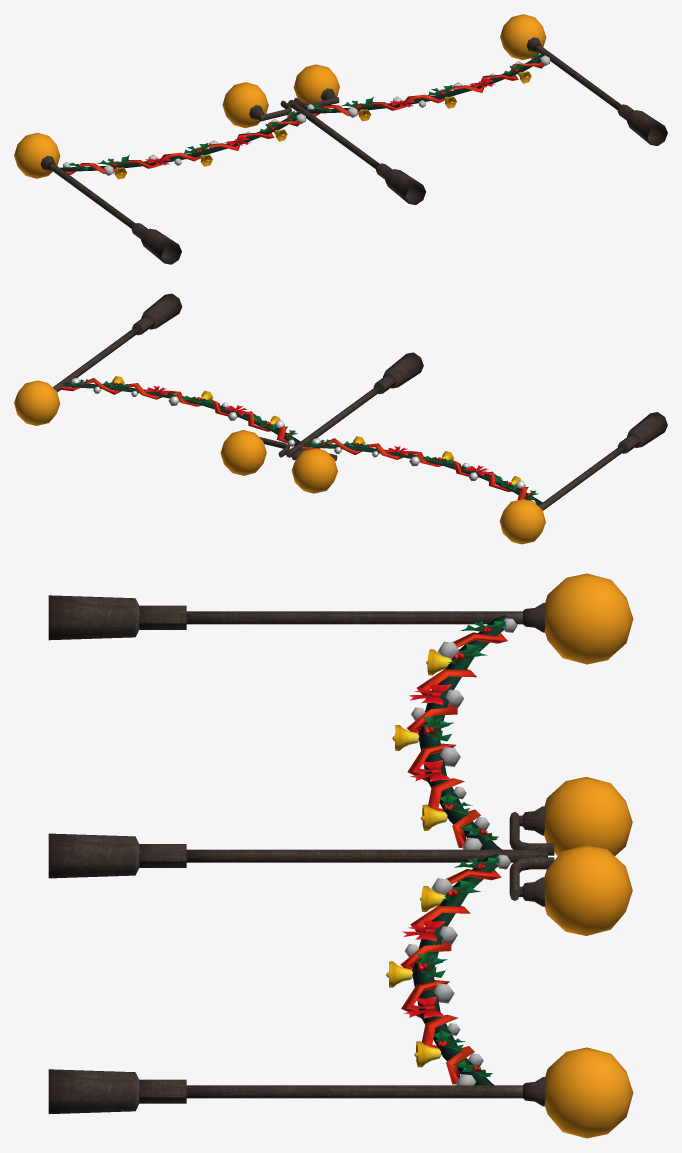
The model's file is StreetLight_Garland_A.fbx.
The picture shows the model from 3 angles, top to bottom: view 1: azimuth 30°, elevation 25°; view 2: azimuth 150°, elevation 25°; view 3: azimuth 270°, elevation 25°; orthographic projection. The views are drawn at different scales.
Parts seen in each view (by area): view 1: StreetLight_Garland_A; view 2: StreetLight_Garland_A; view 3: StreetLight_Garland_A.
Boxes of the visible parts, box(x1,y1,x2,y2) form: StreetLight_Garland_A: box(14, 14, 667, 264); StreetLight_Garland_A: box(14, 293, 667, 544); StreetLight_Garland_A: box(48, 573, 633, 1138).
Bounding box in the file's own units: 157 × 12.23 × 75.96.
